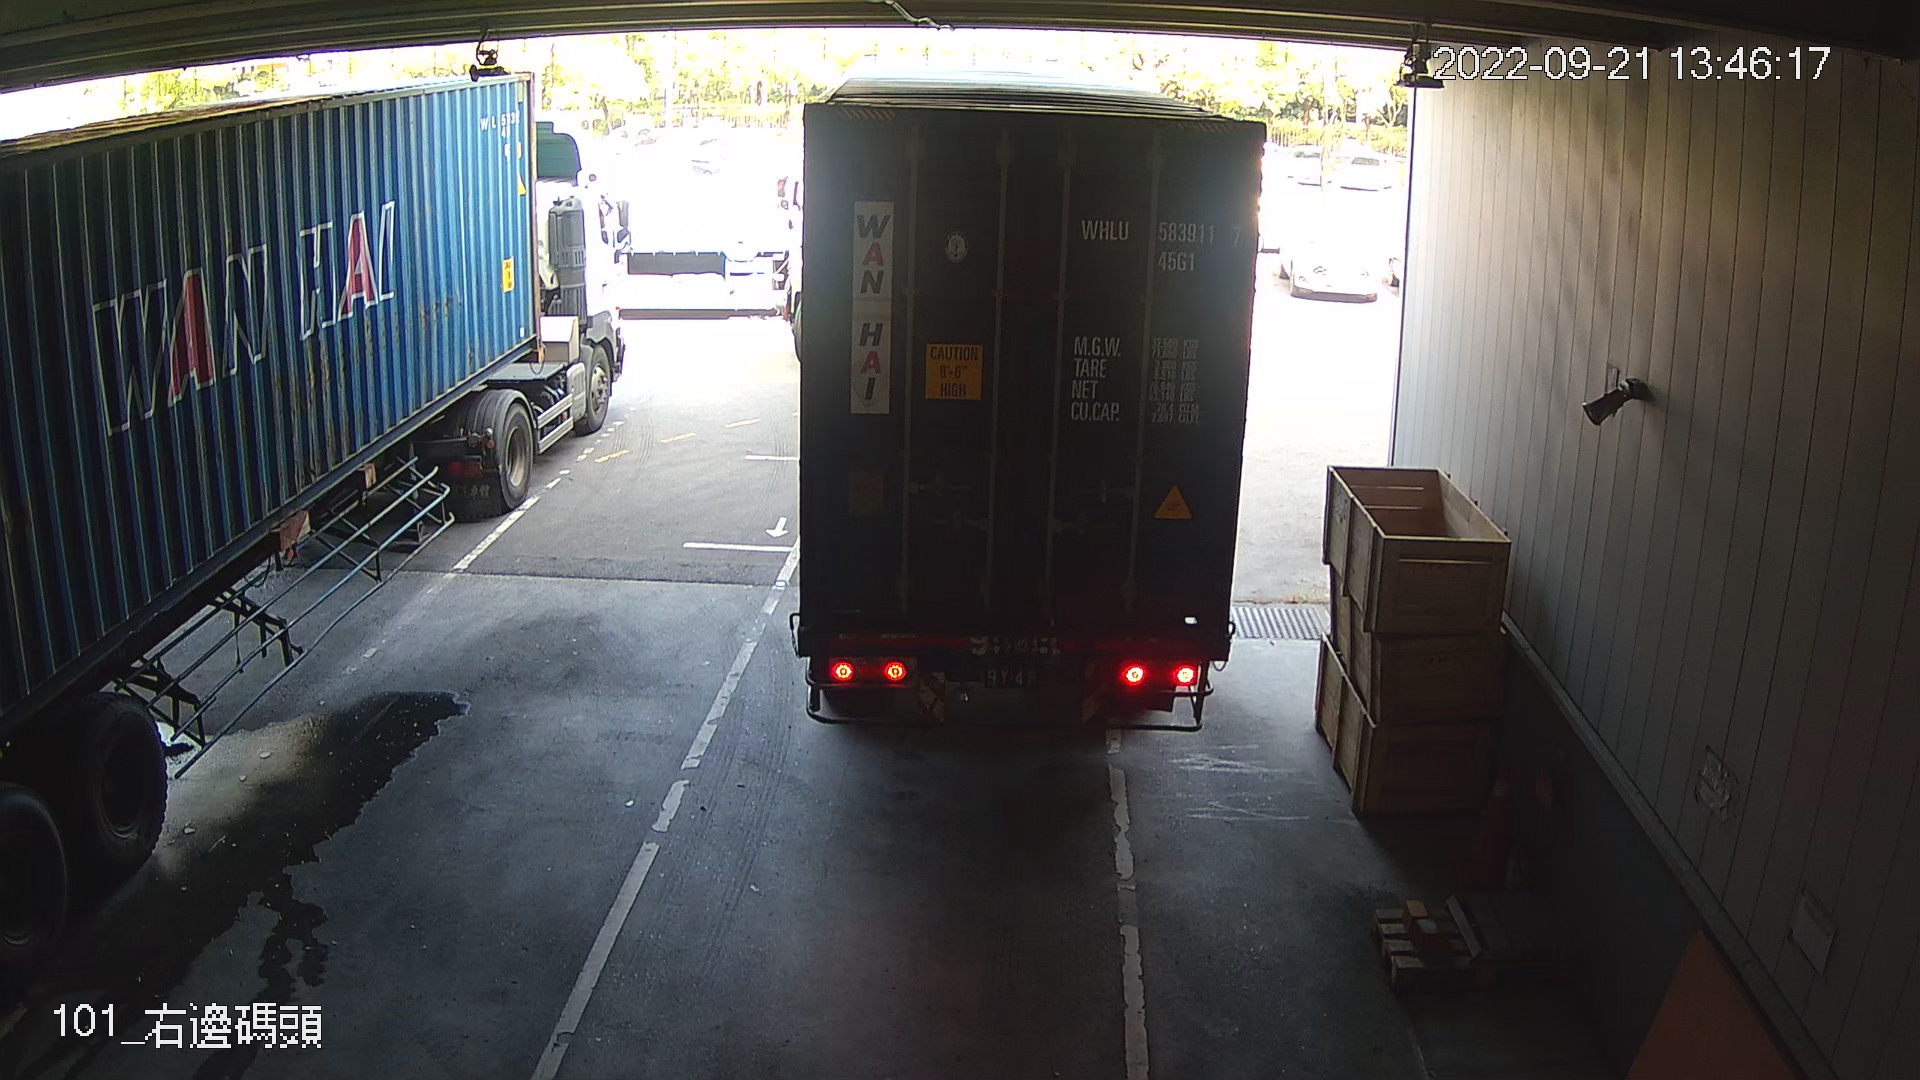container: (1072, 208, 1251, 277)
